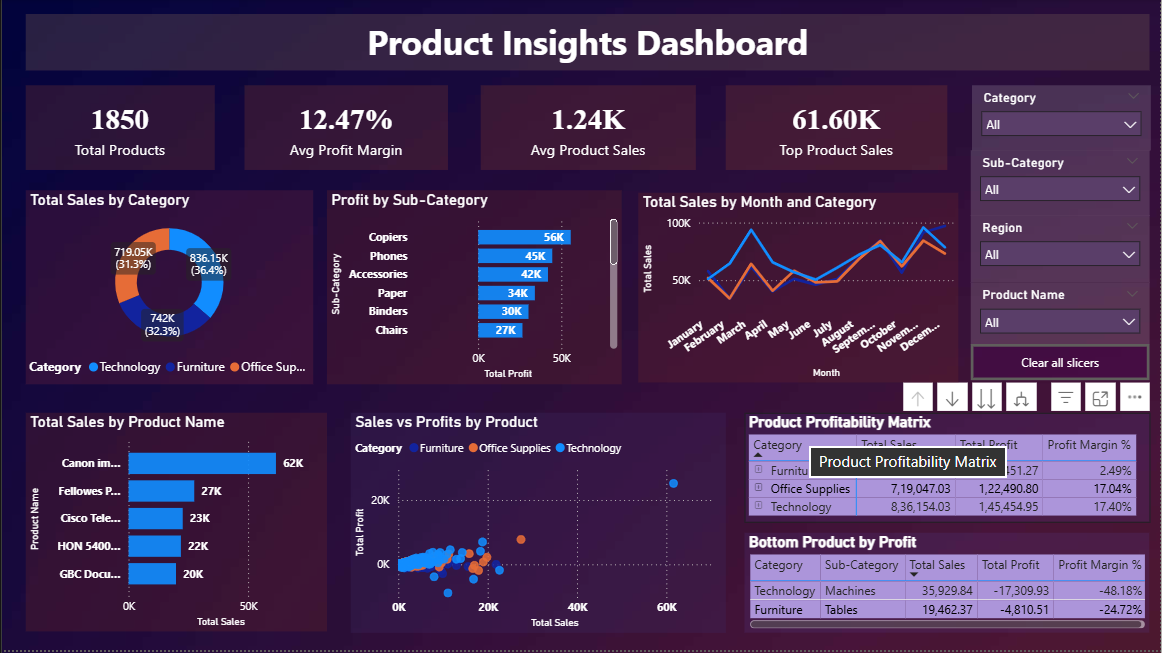

The dashboard page shown, as its layout file describes it:
{"tool":"powerbi","page":{"name":"Page 2","canvas":[1280,720],"ordinal":1},"visuals":[{"type":"barChart","fields":{"Y":["Sample - Superstore.Total Sales"],"Category":["Sample - Superstore.Product Name"]},"box":[26.2,457.1,332.8,241.7],"z":0},{"type":"barChart","title":" Profit by Sub-Category","fields":{"Y":["Sample - Superstore.Total Profit"],"Category":["Sample - Superstore.Sub-Category"]},"box":[359.1,211.3,325.9,214.1],"z":1000},{"type":"donutChart","fields":{"Category":["Sample - Superstore.Category"],"Y":["Sample - Superstore.Total Sales"]},"box":[26.2,211.3,317.7,214.1],"z":2000},{"type":"scatterChart","title":"Sales vs Profits by Product","fields":{"Category":["Sample - Superstore.Product Name"],"X":["Sample - Superstore.Total Sales"],"Y":["Sample - Superstore.Total Profit"],"Series":["Sample - Superstore.Category"]},"box":[385.3,457.1,414.3,243.1],"z":3000},{"type":"tableEx","title":"Bottom  Product by Profit ","fields":{"Values":["Sample - Superstore.Category","Sample - Superstore.Sub-Category","Sample - Superstore.Total Sales","Sample - Superstore.Total Profit","Sample - Superstore.Profit Margin %"]},"box":[820.4,589.7,447.5,110.5],"z":4000},{"type":"pivotTable","title":"Product Profitability Matrix","fields":{"Rows":["Sample - Superstore.Category","Sample - Superstore.Sub-Category"],"Values":["Sample - Superstore.Total Sales","Sample - Superstore.Total Profit","Sample - Superstore.Profit Margin %"]},"box":[820.4,457.1,448.9,121.5],"z":5000},{"type":"slicer","fields":{"Values":["Sample - Superstore.Category"]},"box":[1071.7,95.3,197.5,71.8],"z":6000},{"type":"slicer","fields":{"Values":["Sample - Superstore.Sub-Category"]},"box":[1070.4,167.1,197.5,71.8],"z":7000},{"type":"slicer","fields":{"Values":["Sample - Superstore.Region"]},"box":[1070.4,238.9,197.5,74.6],"z":8000},{"type":"slicer","fields":{"Values":["Sample - Superstore.Product Name"]},"box":[1070.4,313.5,197.5,67.7],"z":9000},{"type":"actionButton","box":[1070.4,381.2,197.5,40.1],"z":10000},{"type":"lineChart","fields":{"Series":["Sample - Superstore.Category"],"Y":["Sample - Superstore.Total Sales"],"Category":["Sample - Superstore.Order Date.Variation.Date Hierarchy.Month"]},"box":[703,214.1,353.6,209.9],"z":11000},{"type":"textbox","box":[26.2,16.6,1241.6,62.1],"z":12000},{"type":"card","fields":{"Values":["Sample - Superstore.Total Products"]},"box":[26.2,95.3,208.5,93.9],"z":13000},{"type":"card","fields":{"Values":["Sample - Superstore.Avg Profit Margin"]},"box":[267.9,95.3,225.1,93.9],"z":14000},{"type":"card","fields":{"Values":["Sample - Superstore.Avg Product Sales"]},"box":[529,95.3,237.5,93.9],"z":15000},{"type":"card","fields":{"Values":["Sample - Superstore.Top Product Sales"]},"box":[799.7,95.3,244.5,93.9],"z":16000}]}

Visuals, with their boxes in screenshot pixels (x1, y1, x2, y2), scaled from the page's 1280x720 canvas onto the 1162x653 screenshot:
barChart - Sample - Superstore.Total Sales x Sample - Superstore.Product Name: x1=24 y1=415 x2=326 y2=634
" Profit by Sub-Category" barChart: x1=326 y1=192 x2=622 y2=386
donutChart - Sample - Superstore.Category x Sample - Superstore.Total Sales: x1=24 y1=192 x2=312 y2=386
"Sales vs Profits by Product" scatterChart: x1=350 y1=415 x2=726 y2=635
"Bottom  Product by Profit " tableEx: x1=745 y1=535 x2=1151 y2=635
"Product Profitability Matrix" pivotTable: x1=745 y1=415 x2=1152 y2=525
slicer - Sample - Superstore.Category: x1=973 y1=86 x2=1152 y2=152
slicer - Sample - Superstore.Sub-Category: x1=972 y1=152 x2=1151 y2=217
slicer - Sample - Superstore.Region: x1=972 y1=217 x2=1151 y2=284
slicer - Sample - Superstore.Product Name: x1=972 y1=284 x2=1151 y2=346
actionButton: x1=972 y1=346 x2=1151 y2=382
lineChart - Sample - Superstore.Category x Sample - Superstore.Total Sales: x1=638 y1=194 x2=959 y2=385
textbox: x1=24 y1=15 x2=1151 y2=71
card - Sample - Superstore.Total Products: x1=24 y1=86 x2=213 y2=172
card - Sample - Superstore.Avg Profit Margin: x1=243 y1=86 x2=448 y2=172
card - Sample - Superstore.Avg Product Sales: x1=480 y1=86 x2=696 y2=172
card - Sample - Superstore.Top Product Sales: x1=726 y1=86 x2=948 y2=172
